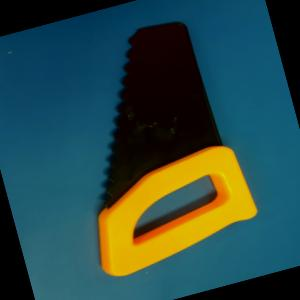serrote: (43, 10, 264, 280)
